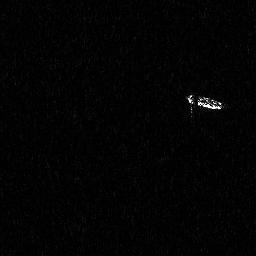ship: (185, 92, 226, 121)
